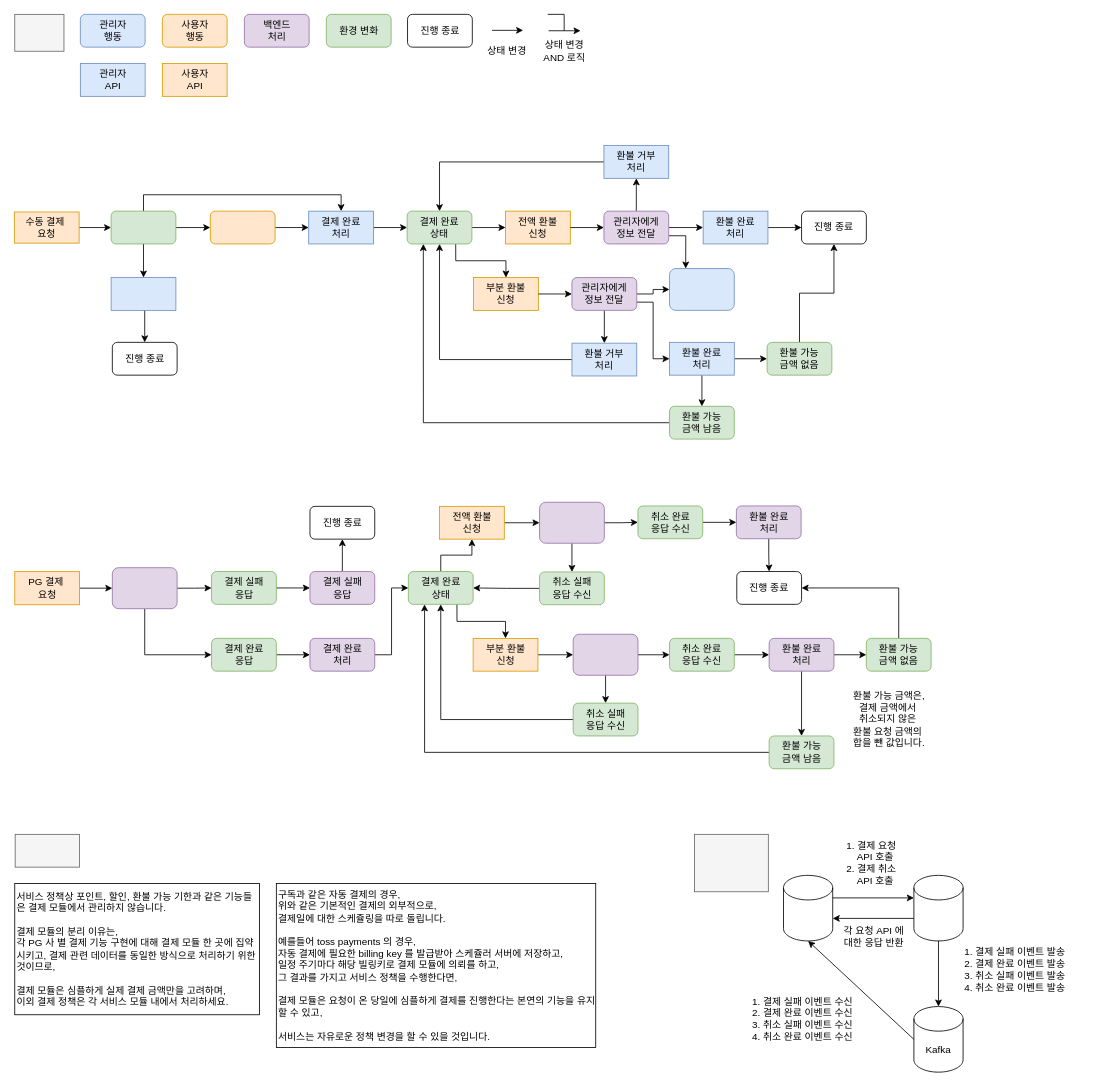
Some shapes in this 1093 by 1087 pixel diagram are drawn without their labels. Each missing label, with the centre of its shape:
"PG 사 결제 승인 API 호출" belongs at (x=144, y=588).
"PG 사 결제 취소 API 호출" belongs at (x=571, y=522).
"PG 사 부분 결제 취소 API 호출" belongs at (x=605, y=654).
"결제 대기 상태" belongs at (x=143, y=227).
"결제 모듈" belongs at (x=938, y=908).
"결제 실패 처리" belongs at (x=143, y=293).
"계좌 이체 완료" belongs at (x=242, y=227).
"도표 아이콘" belongs at (x=39, y=32).
"마이크로 서비스 구조 도표" belongs at (x=731, y=863).
"수동 환불 및 증빙 자료 저장" belongs at (x=701, y=289).
"유료 서비스 모듈" belongs at (x=808, y=908).
"추가 설명" belongs at (x=47, y=850).
